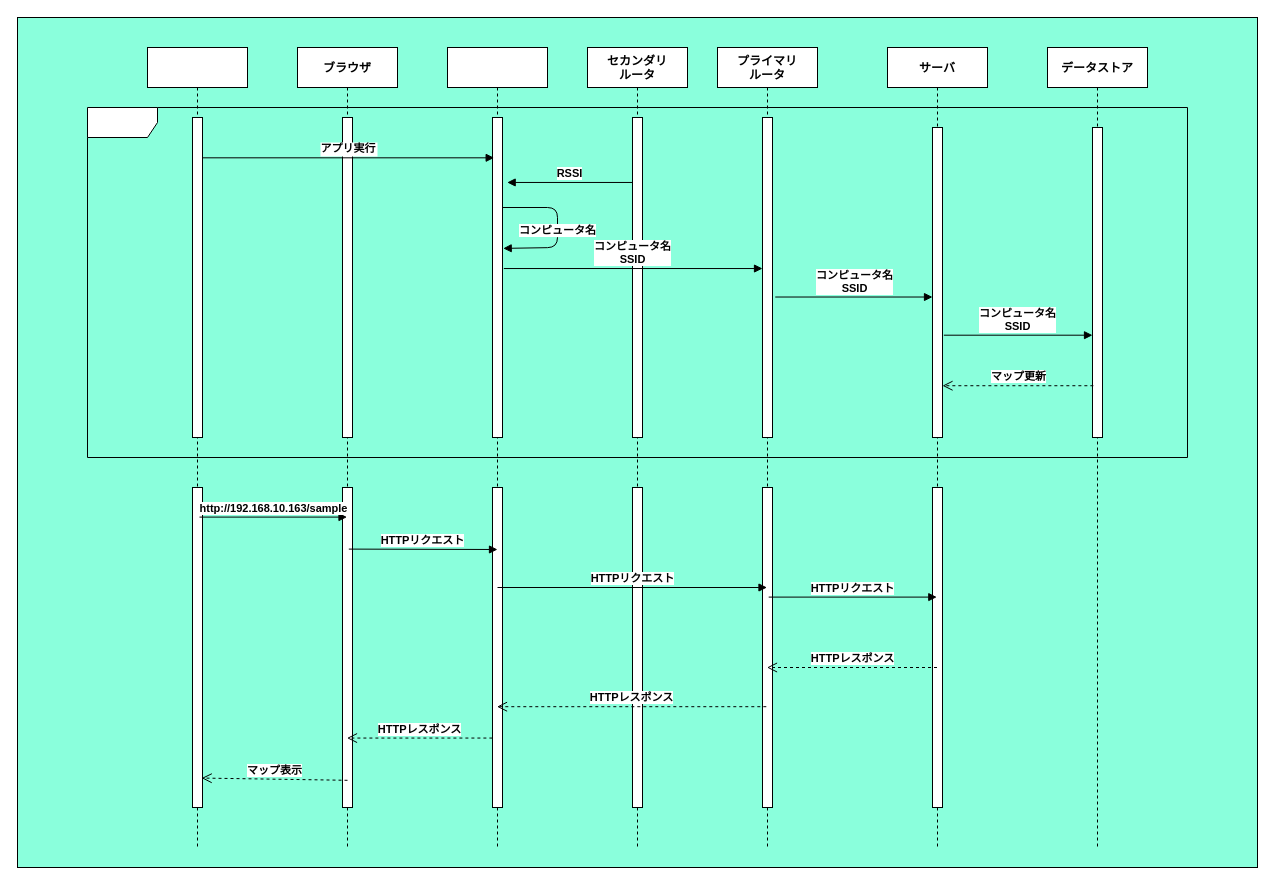
Image size: 1275x885. Some labels were removed from this diagram. Here are the shapes that lost their labels. From the top down, the box of each, then its label:
(86, 106, 1188, 458): Loop[1,*]
(146, 46, 248, 848): ユーザ
(446, 46, 548, 848): クライアント ノートＰＣ
